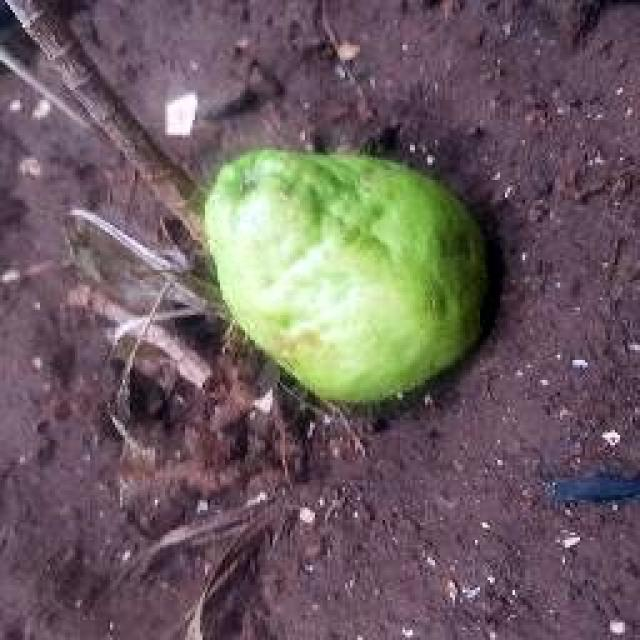Good_Guava: (200, 150, 500, 410)
